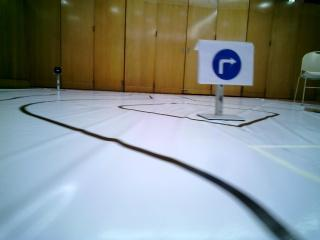right: (205, 43, 255, 85)
